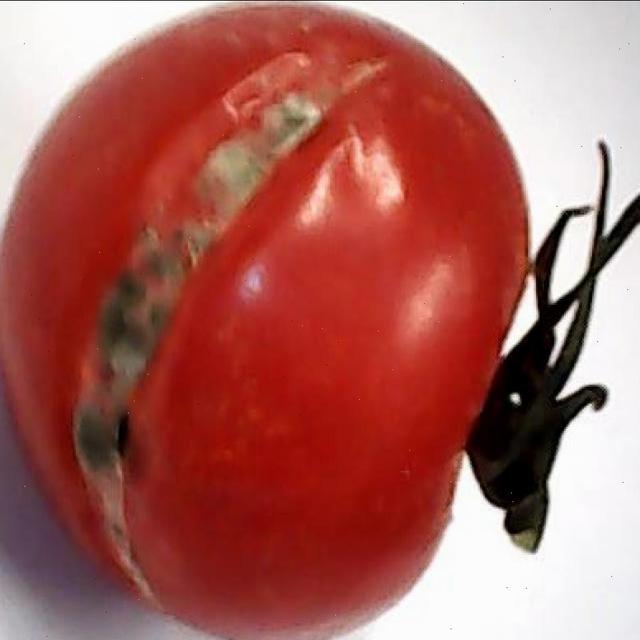Cracking Fruit: (40, 30, 256, 414)
